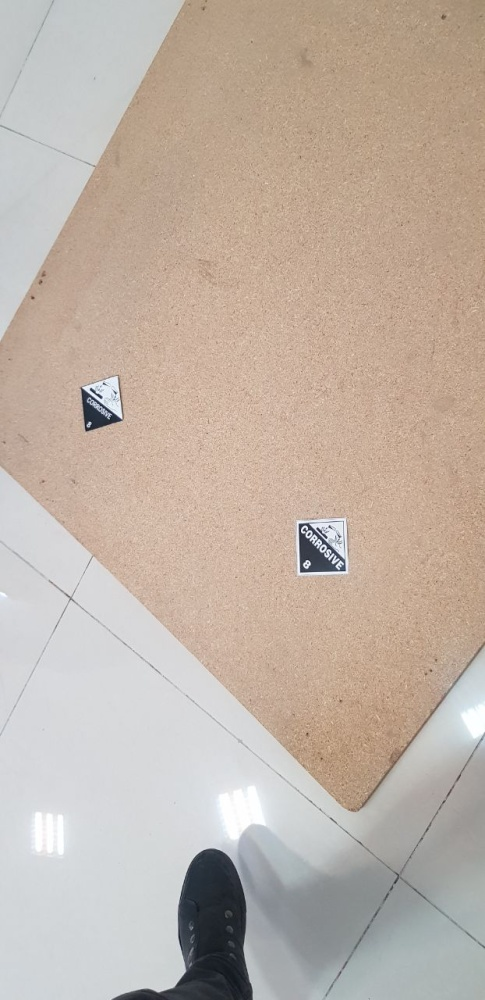Corrosive: (296, 518, 349, 576), (81, 375, 124, 432)
